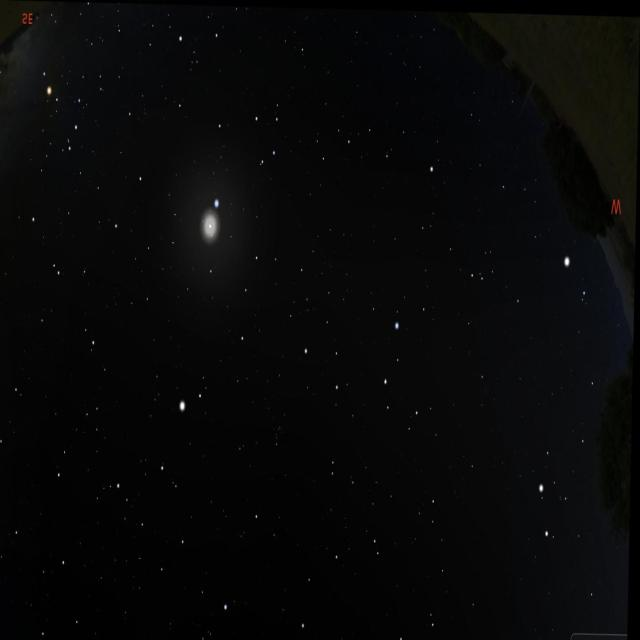bootes: (132, 388, 210, 576)
canis_minor: (550, 242, 598, 298)
gemini: (530, 447, 623, 554)
leo: (294, 302, 430, 441)
moon: (188, 189, 238, 251)
scorpius: (34, 68, 93, 160)
